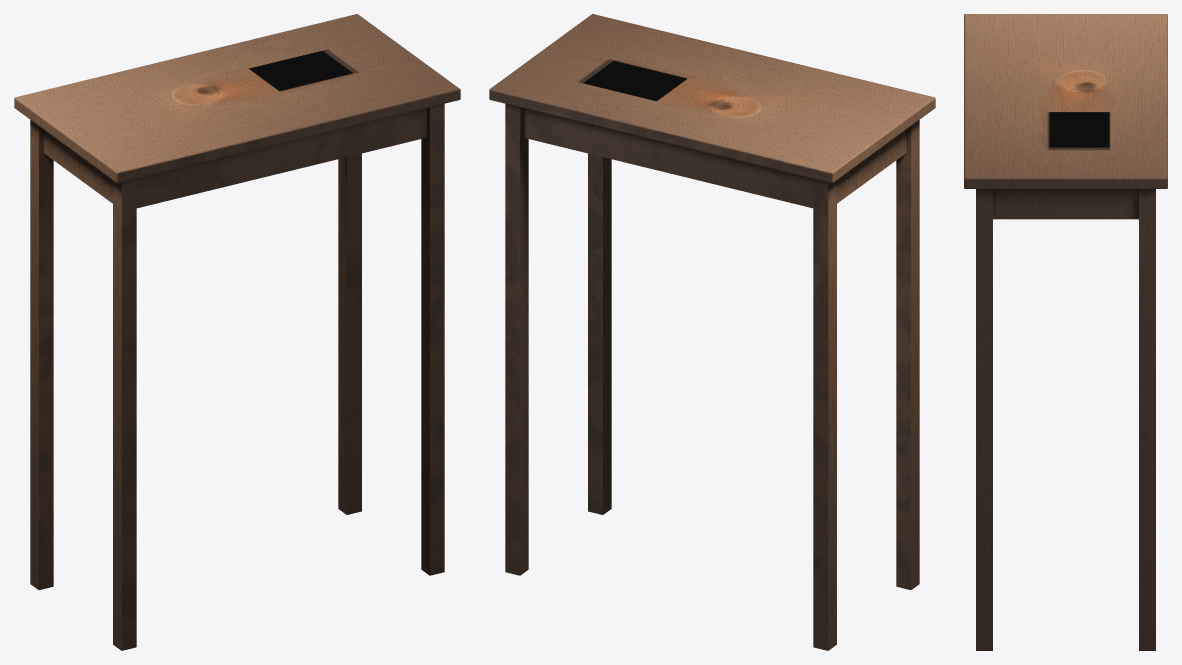
File: 808_jar.glb
The picture shows the model from 3 angles, left to right: view 1: azimuth 30°, elevation 25°; view 2: azimuth 150°, elevation 25°; view 3: azimuth 270°, elevation 25°; orthographic projection.
Visible parts, largest first — view 1: Table; view 2: Table; view 3: Table.
Part boxes in pixels (x1,y1,x2,y2): Table: (14, 14, 460, 650); Table: (489, 14, 935, 650); Table: (964, 14, 1167, 650).
Size of what is drawn, in the model's own units: 2.3 by 3.1 by 1.2.
Materials: 1 (1 with a texture image).
